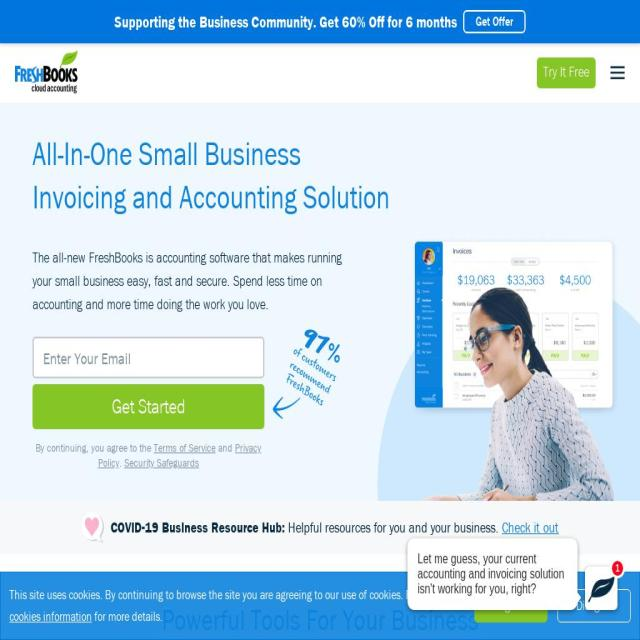button: (32, 383, 264, 429), (15, 50, 77, 95), (474, 589, 548, 623), (558, 589, 630, 623), (536, 58, 596, 88), (463, 10, 526, 33), (610, 66, 625, 82)
field: (32, 336, 264, 378)
heading: (32, 132, 392, 219), (9, 600, 630, 639)
iframe: (340, 528, 625, 620)
image: (270, 383, 342, 429), (15, 50, 77, 93), (82, 511, 105, 543), (610, 66, 625, 80)
label: (43, 349, 131, 367)
link: (97, 441, 262, 469), (9, 609, 92, 623), (502, 518, 559, 536), (124, 456, 199, 469), (154, 441, 216, 454)
text: (32, 245, 354, 316), (9, 588, 452, 602), (114, 13, 457, 30), (285, 518, 502, 536), (111, 518, 285, 536), (112, 394, 185, 418), (35, 441, 154, 454), (92, 609, 162, 623), (543, 63, 589, 80), (216, 441, 235, 454), (119, 456, 124, 469)
